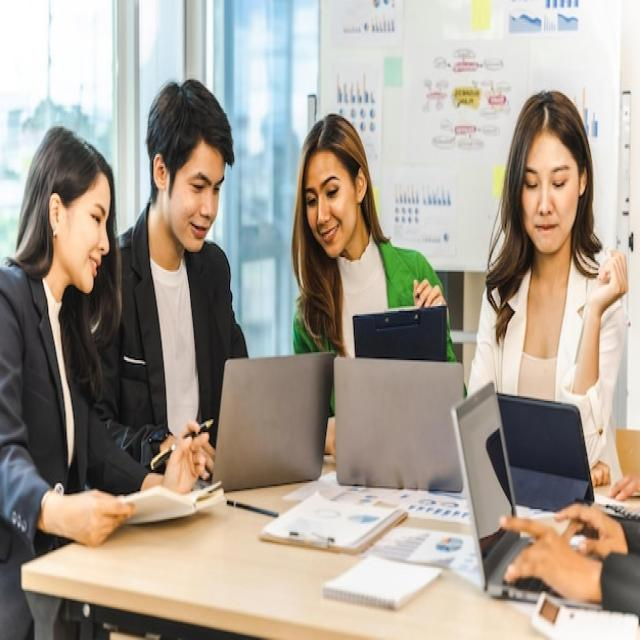adult: (0, 131, 214, 538), (464, 91, 626, 497), (105, 82, 252, 472), (298, 109, 446, 398)
